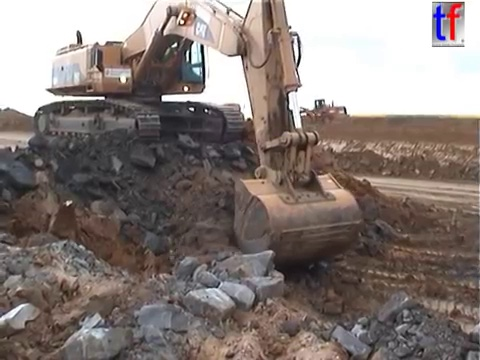excavator: (30, 1, 368, 272)
wheel loader: (287, 96, 349, 126)
